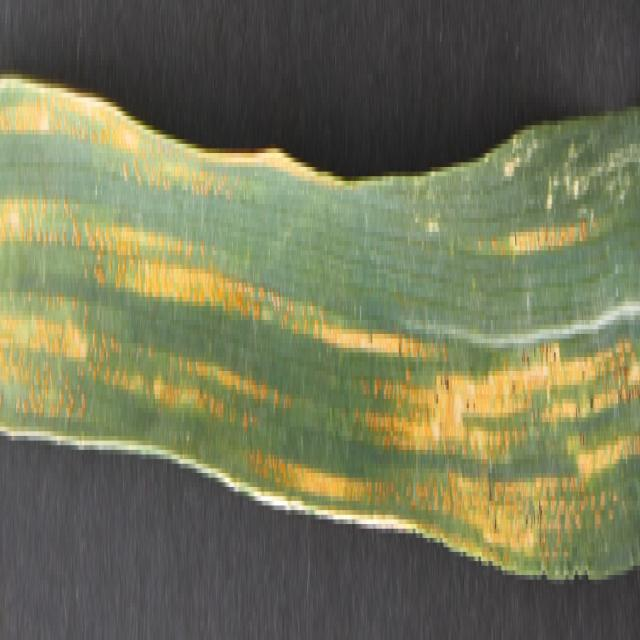leaf rust: (0, 69, 640, 579)
